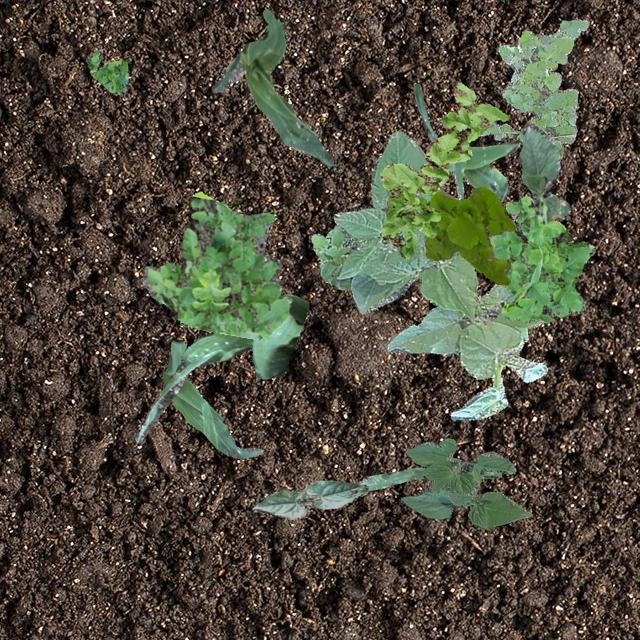crop: (332, 130, 546, 420), (134, 293, 308, 442), (212, 8, 336, 166), (412, 82, 520, 200), (162, 340, 262, 458), (400, 438, 530, 528), (518, 121, 570, 222), (252, 479, 366, 518), (356, 466, 499, 494)
weed: (378, 82, 508, 258), (140, 192, 290, 338), (478, 19, 586, 158), (486, 195, 594, 322), (386, 185, 514, 284), (311, 224, 364, 290), (86, 48, 126, 94)
